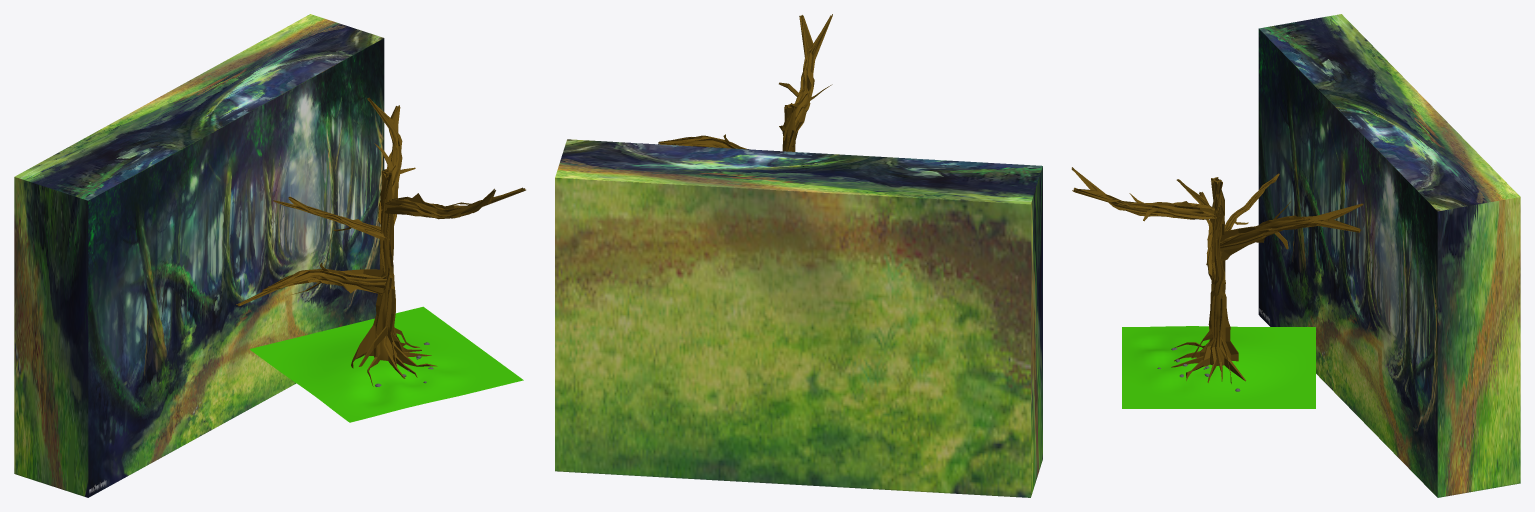
File: jungle_alpha_03.dae
3 renders of one model, left to right at view 1: azimuth 30°, elevation 25°; view 2: azimuth 150°, elevation 25°; view 3: azimuth 270°, elevation 25°, orthographic. The views are drawn at different scales.
Parts seen in each view (by area): view 1: pCube1, pPlane1, polySurface1; view 2: pCube1, polySurface1; view 3: pCube1, pPlane1, polySurface1.
Part boxes in pixels (x1,y1,x2,y2): pCube1: [14, 14, 384, 497]; pPlane1: [249, 306, 523, 422]; polySurface1: [236, 97, 525, 386]; pCube1: [555, 139, 1042, 497]; polySurface1: [658, 14, 832, 151]; pCube1: [1258, 14, 1520, 497]; pPlane1: [1122, 326, 1315, 408]; polySurface1: [1071, 167, 1363, 383].
Bounding box in the file's own units: 182 × 126 × 175.
